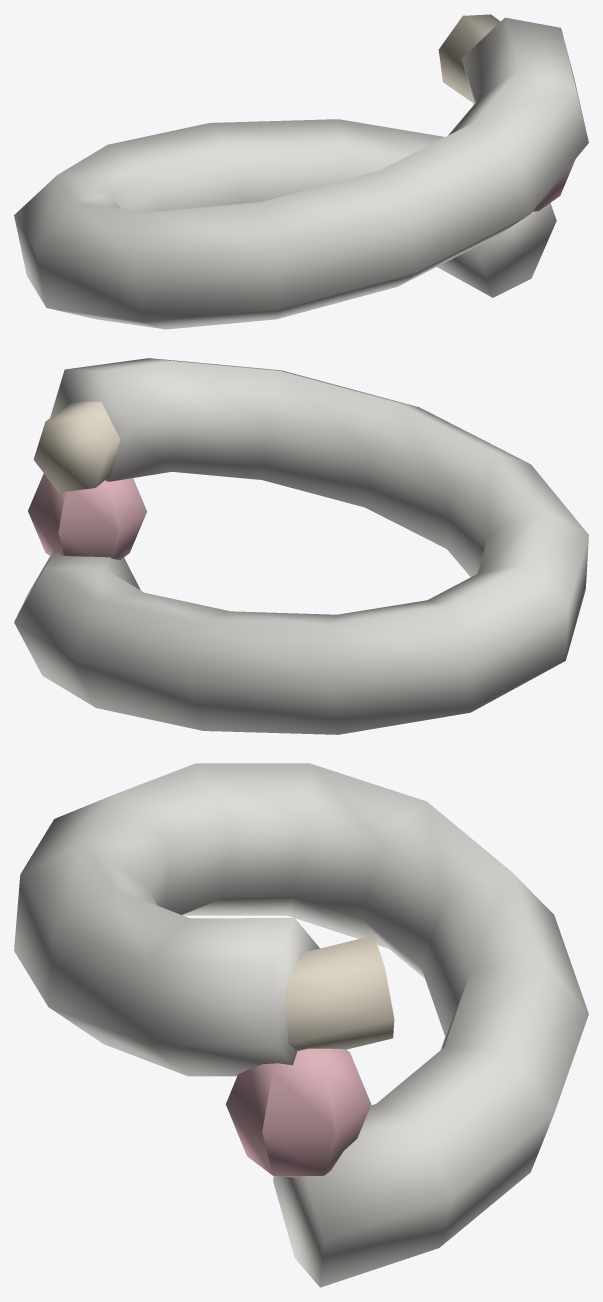
The model's file is hand_wrap_1.glb.
The picture shows the model from 3 angles, top to bottom: view 1: azimuth 30°, elevation 25°; view 2: azimuth 150°, elevation 25°; view 3: azimuth 270°, elevation 25°; orthographic projection. The views are drawn at different scales.
Parts seen in each view (by area): view 1: hand_wrap_1; view 2: hand_wrap_1; view 3: hand_wrap_1.
Part boxes in pixels (x1,y1,x2,y2): hand_wrap_1: (14,14,588,329); hand_wrap_1: (14,358,588,734); hand_wrap_1: (14,763,588,1287).
Size of what is drawn, in the model's own units: 0.1 by 0.05 by 0.075.
